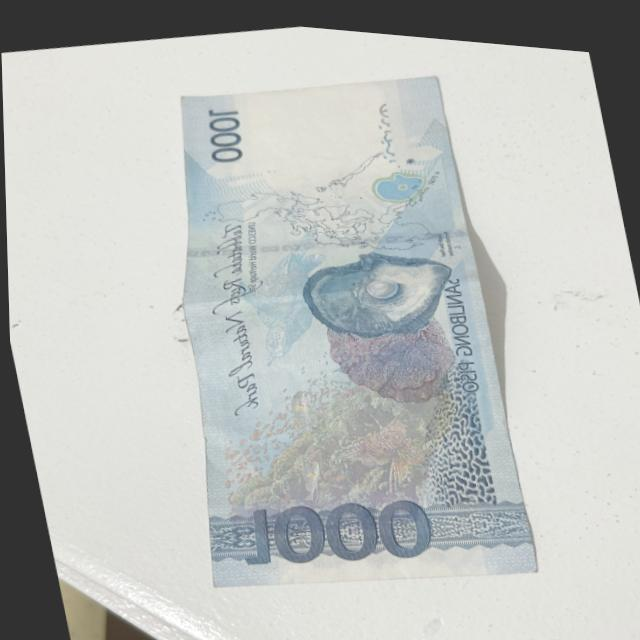1000_pearl: (316, 234, 454, 341)
1000_pearl_watermark: (357, 153, 434, 205)
